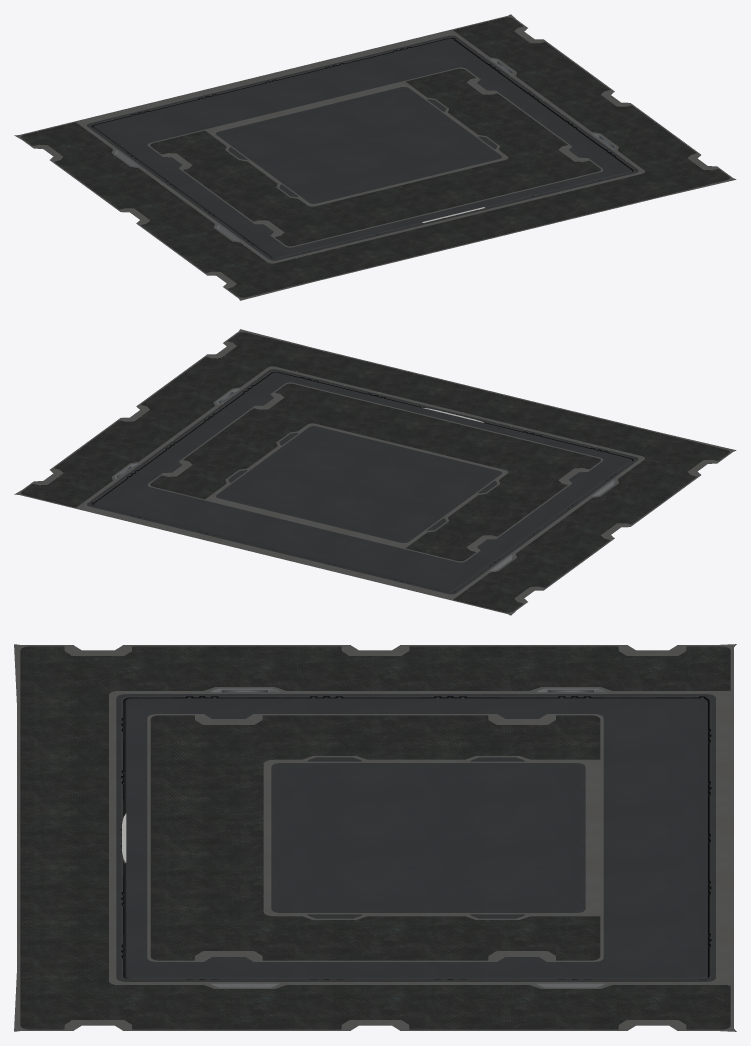
File: ht-garage-lrg-buehne.glb
3 renders of one model, top to bottom at view 1: azimuth 30°, elevation 25°; view 2: azimuth 150°, elevation 25°; view 3: azimuth 270°, elevation 25°, orthographic. The views are drawn at different scales.
Visible parts, largest first — view 1: buehne_lift_l, buehne_lift_m; view 2: buehne_lift_l, buehne_lift_m; view 3: buehne_lift_l, buehne_lift_m.
Boxes of the visible parts, x1,y1,x2,y2 form: buehne_lift_l: (14,14,736,300); buehne_lift_m: (147,67,603,247); buehne_lift_l: (14,329,736,615); buehne_lift_m: (147,382,603,562); buehne_lift_l: (14,644,736,1031); buehne_lift_m: (147,714,603,961).
Size of the model in its own units: 28.15 by 0.9026 by 22.18.
Materials: 8 (7 with a texture image).
